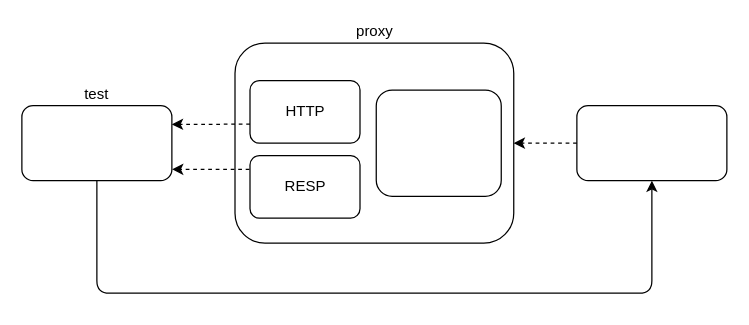
Some shapes in this 749 by 325 pixel diagram are drawn without their labels. The shapes that lost their labels are listed below. From the top down, each one's centre as x and y in pixels, then its label:
[438,142]: LRU cache
[651,142]: redis
